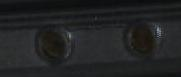joints: (33, 23, 75, 64), (123, 18, 165, 57)
